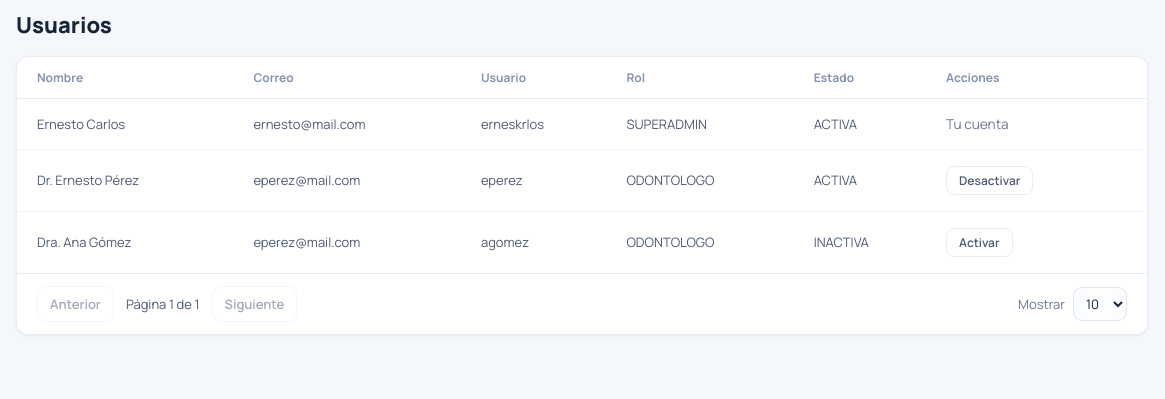
Test: UsuariosListado › muestra el error si el backend rechaza el cambio
Expected: the text "Dra. Ana Gómez" is shown, [17,211,241,272]
Click the button "Activar": (979, 242) [946,228,1012,256]
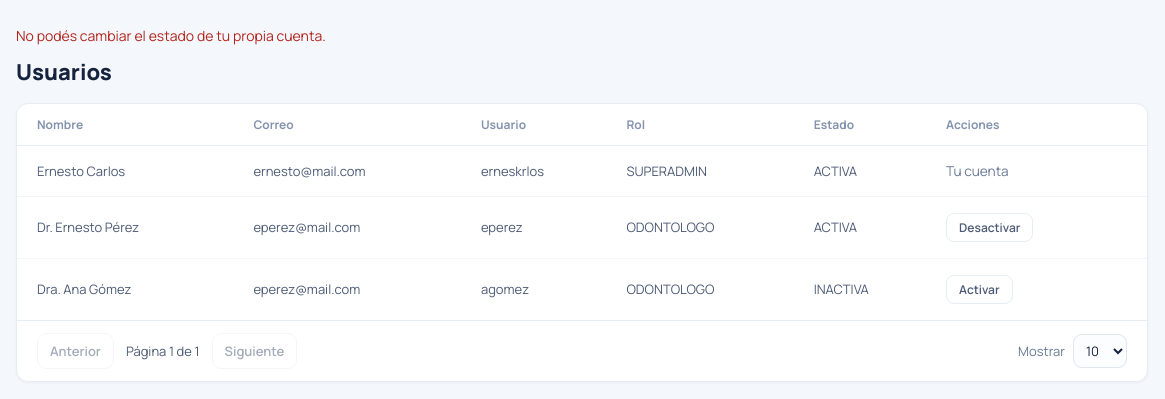
Expected: the text "No podés cambiar el estado de tu propia cuenta." is shown, [16,26,326,45]
